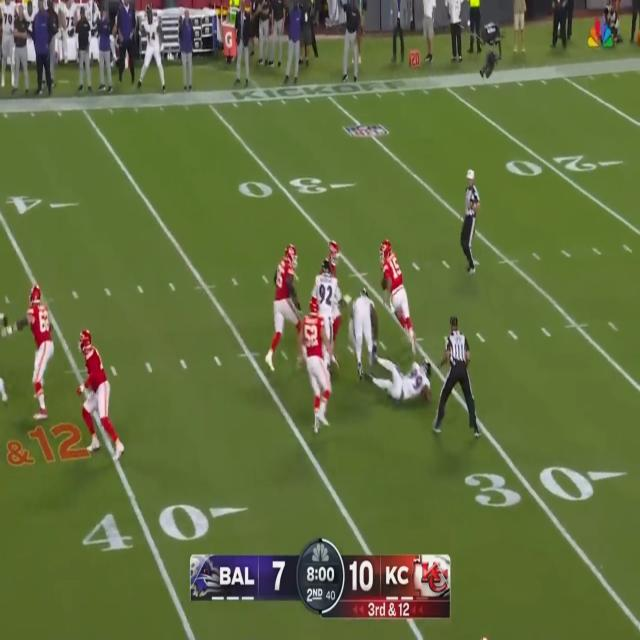Ball: (380, 277, 386, 292)
